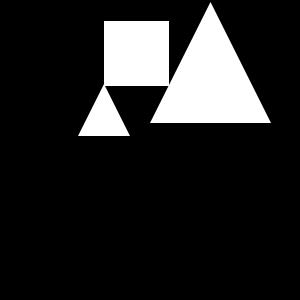circle: (104, 21, 169, 86)
triangle: (150, 2, 271, 123), (78, 84, 130, 136), (182, 105, 199, 122)
